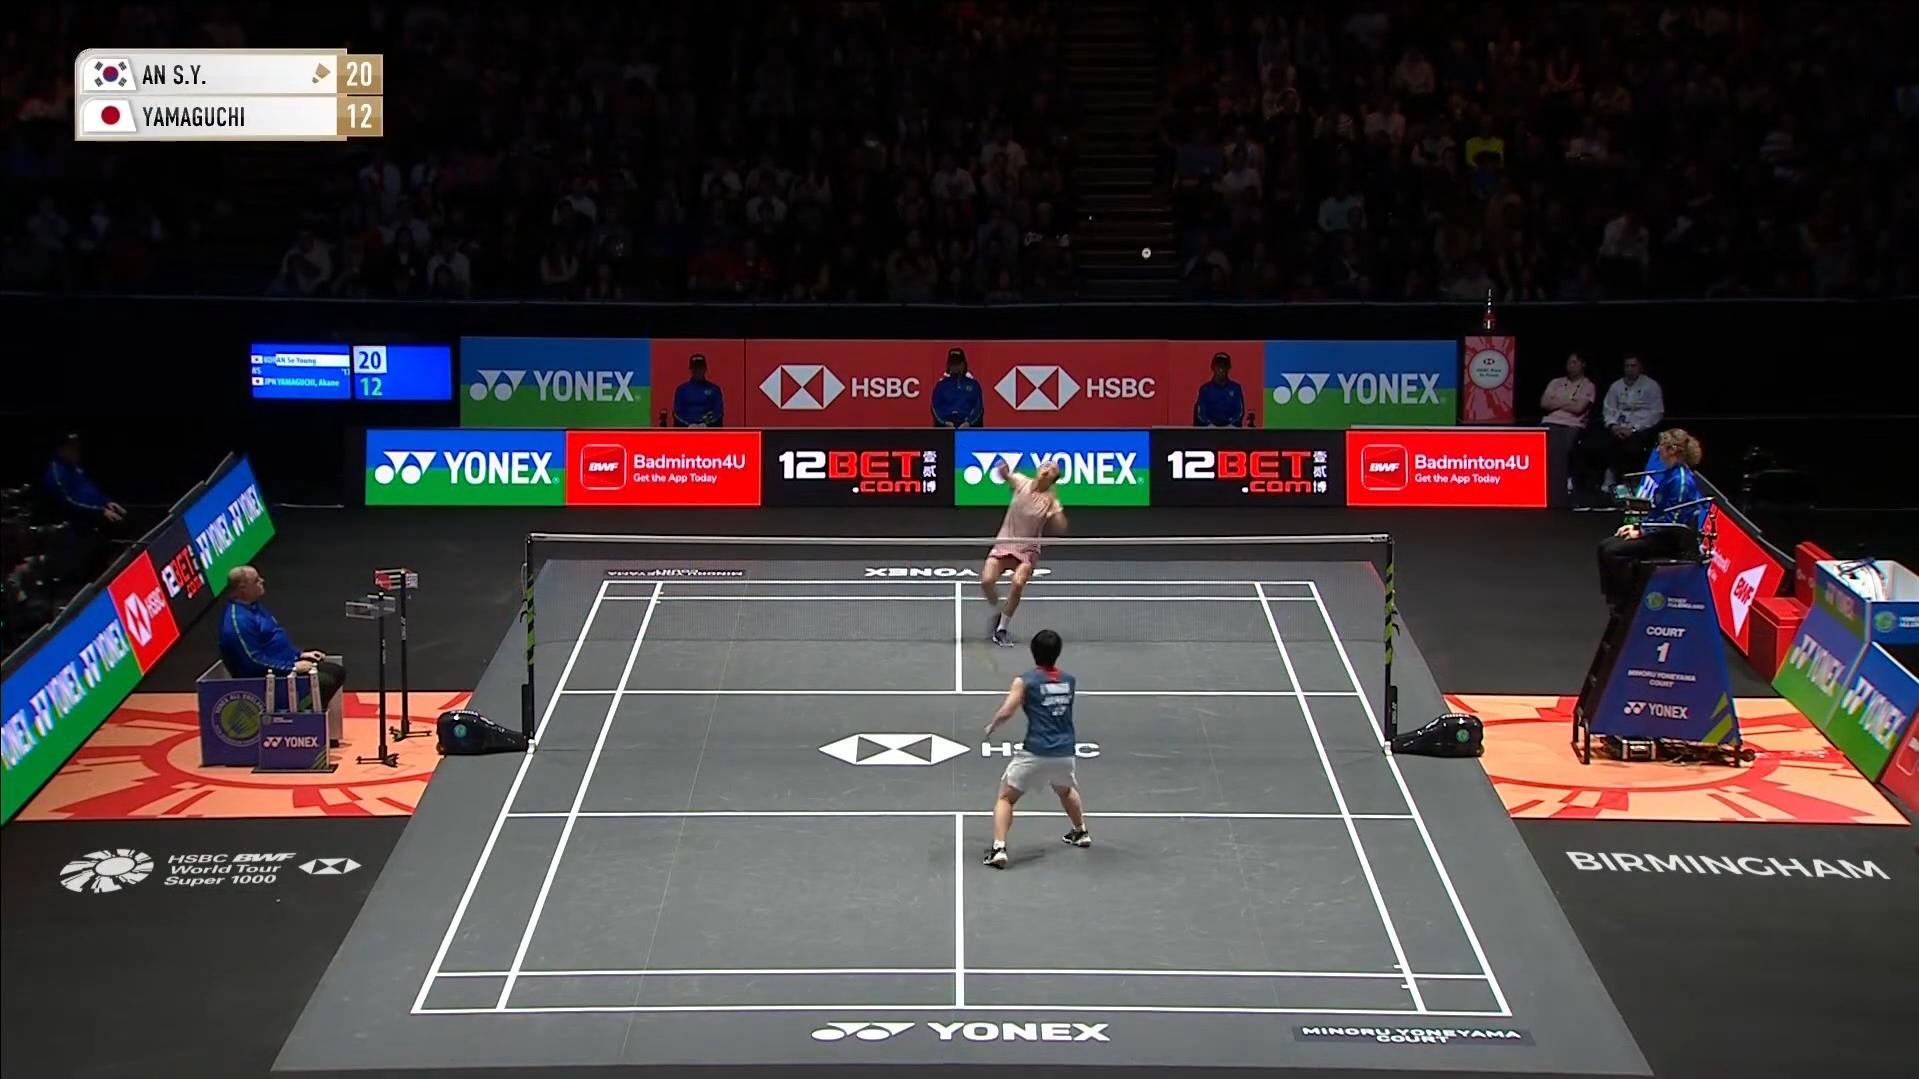shuttle: (1133, 238, 1160, 270)
